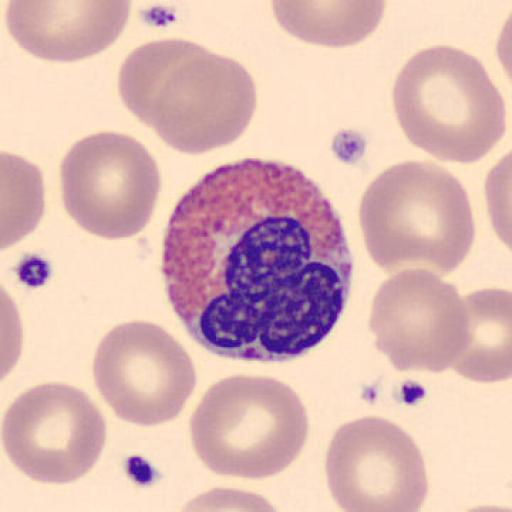RBC: (390, 42, 507, 166), (358, 158, 477, 276), (188, 372, 311, 482), (90, 317, 198, 429), (115, 36, 243, 130), (150, 47, 258, 156), (58, 130, 164, 241), (368, 266, 472, 376), (2, 380, 109, 486), (323, 413, 429, 512), (5, 0, 133, 65), (448, 286, 512, 384), (267, 0, 388, 49), (2, 150, 46, 251), (172, 485, 290, 512), (483, 149, 512, 256), (1, 283, 25, 386), (492, 3, 512, 121), (495, 11, 512, 81), (446, 502, 512, 512)
WBC: (161, 156, 352, 363)
